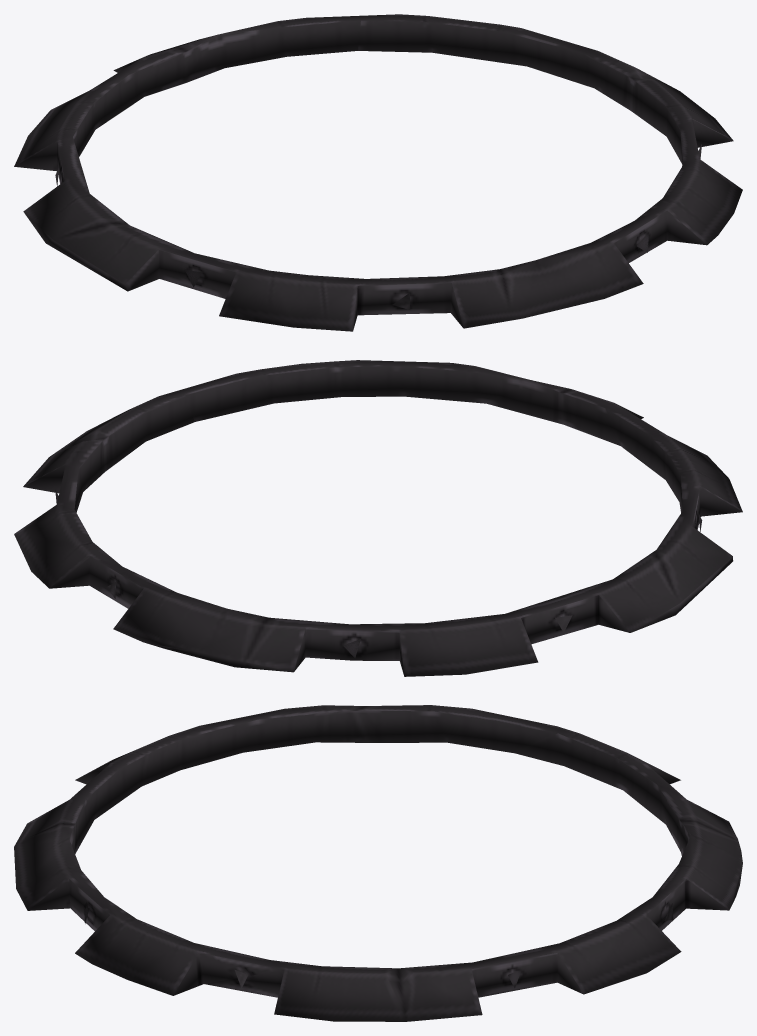
The model's file is button_frame_LOD0.fbx.
3 views of the same model, one above another, from view 1: azimuth 30°, elevation 25°; view 2: azimuth 150°, elevation 25°; view 3: azimuth 270°, elevation 25° (orthographic).
Parts seen in each view (by area): view 1: button_frame_LOD0; view 2: button_frame_LOD0; view 3: button_frame_LOD0.
Boxes of the visible parts, x1,y1,x2,y2 form: button_frame_LOD0: (14, 14, 742, 331); button_frame_LOD0: (14, 360, 742, 676); button_frame_LOD0: (14, 705, 742, 1021).
Bounding box in the file's own units: 155 × 8.38 × 155.
